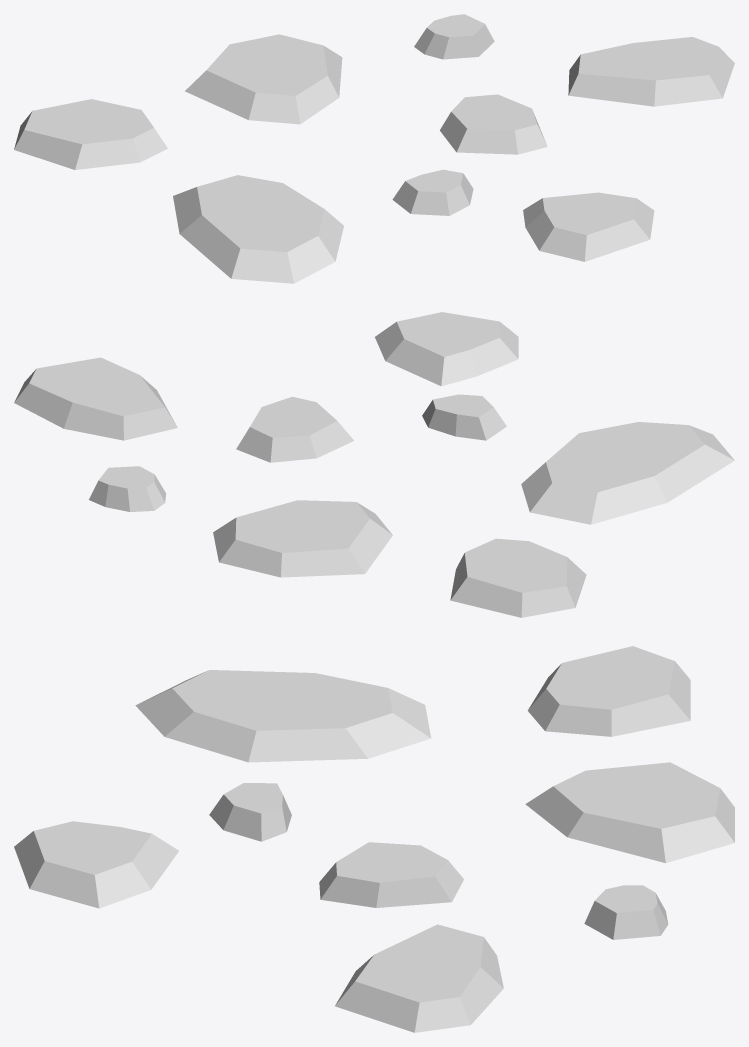
File: stone_011.fbx
3 renders of one model, top to bottom at view 1: azimuth 30°, elevation 25°; view 2: azimuth 150°, elevation 25°; view 3: azimuth 270°, elevation 25°, orthographic. The views are drawn at different scales.
Visible parts, largest first — view 1: stone.011; view 2: stone.011; view 3: stone.011.
Part boxes in pixels (bbox=[...]): stone.011: bbox=[14, 14, 734, 283]; stone.011: bbox=[14, 312, 734, 617]; stone.011: bbox=[14, 646, 734, 1032].
Bounding box in the file's own units: 645 × 17.93 × 531.
1 material, 1 textured.
